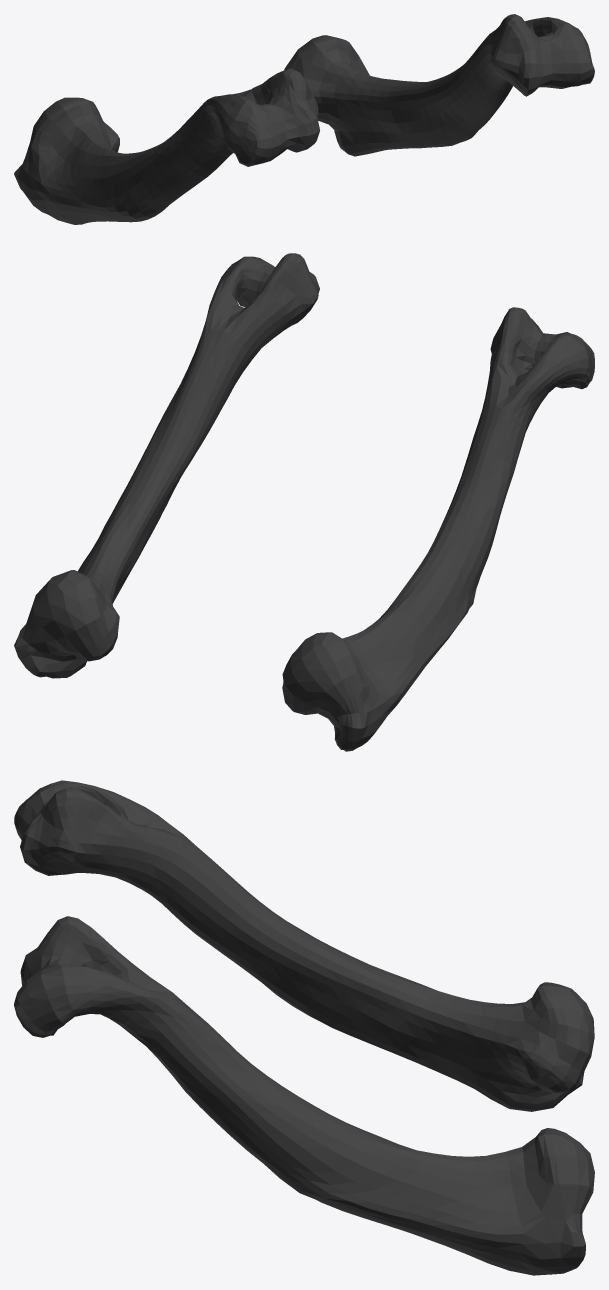
Rendered from B_Humerus.glb.
3 views of the same model, one above another, from view 1: azimuth 30°, elevation 25°; view 2: azimuth 150°, elevation 25°; view 3: azimuth 270°, elevation 25° (orthographic). The views are drawn at different scales.
Parts seen in each view (by area): view 1: B_Humerus; view 2: B_Humerus; view 3: B_Humerus.
Part boxes in pixels (x1=…): B_Humerus: x1=14, y1=14, x2=594, y2=224; B_Humerus: x1=14, y1=253, x2=594, y2=751; B_Humerus: x1=14, y1=780, x2=594, y2=1275.
Bounding box in the file's own units: 0.00848 × 0.0064 × 0.00995.
Materials: 1 (1 with a texture image).
